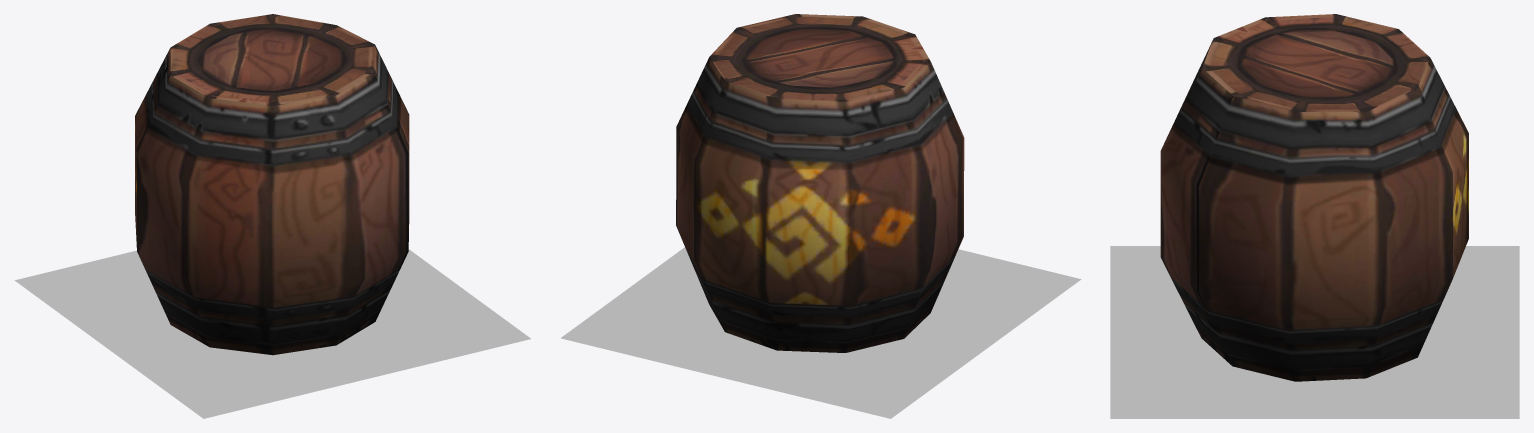
Rendered from Gimmick_Taru002.fbx.
The picture shows the model from 3 angles, left to right: view 1: azimuth 30°, elevation 25°; view 2: azimuth 150°, elevation 25°; view 3: azimuth 270°, elevation 25°; orthographic projection. The views are drawn at different scales.
Visible parts, largest first — view 1: Gimmick_HakaiTaru001, Gimmick_HakaiTaru001_shadow; view 2: Gimmick_HakaiTaru001, Gimmick_HakaiTaru001_shadow; view 3: Gimmick_HakaiTaru001, Gimmick_HakaiTaru001_shadow.
Boxes of the visible parts, x1,y1,x2,y2 form: Gimmick_HakaiTaru001: [135, 14, 409, 355]; Gimmick_HakaiTaru001_shadow: [14, 249, 530, 418]; Gimmick_HakaiTaru001: [676, 14, 964, 352]; Gimmick_HakaiTaru001_shadow: [561, 247, 1081, 418]; Gimmick_HakaiTaru001: [1160, 14, 1468, 381]; Gimmick_HakaiTaru001_shadow: [1110, 246, 1519, 418].
Size of the model in its own units: 1.11 by 0.8048 by 1.11.
